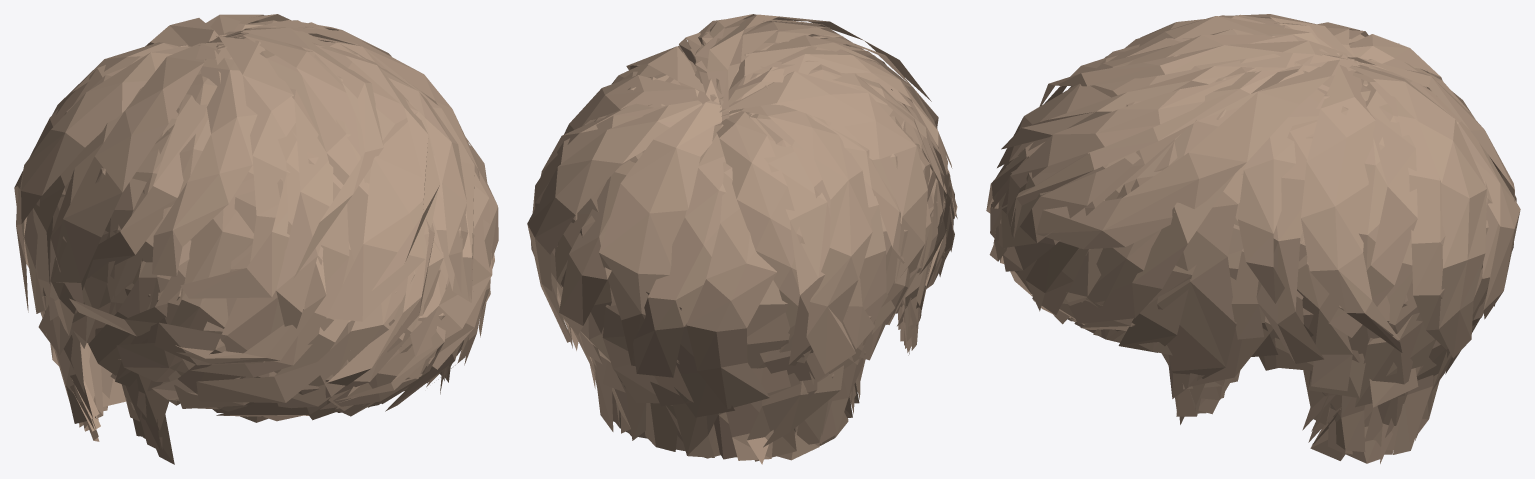
File: male_hair_10_lod1.glb
The picture shows the model from 3 angles, left to right: view 1: azimuth 30°, elevation 25°; view 2: azimuth 150°, elevation 25°; view 3: azimuth 270°, elevation 25°; orthographic projection. The views are drawn at different scales.
Visible parts, largest first — view 1: hair_10; view 2: hair_10; view 3: hair_10.
Boxes of the visible parts, left/top/right/bottom form: hair_10: left=14, top=14, right=498, bottom=464; hair_10: left=527, top=14, right=957, bottom=464; hair_10: left=986, top=14, right=1520, bottom=463.
Size of the model in its own units: 0.1808 by 0.1776 by 0.224.
